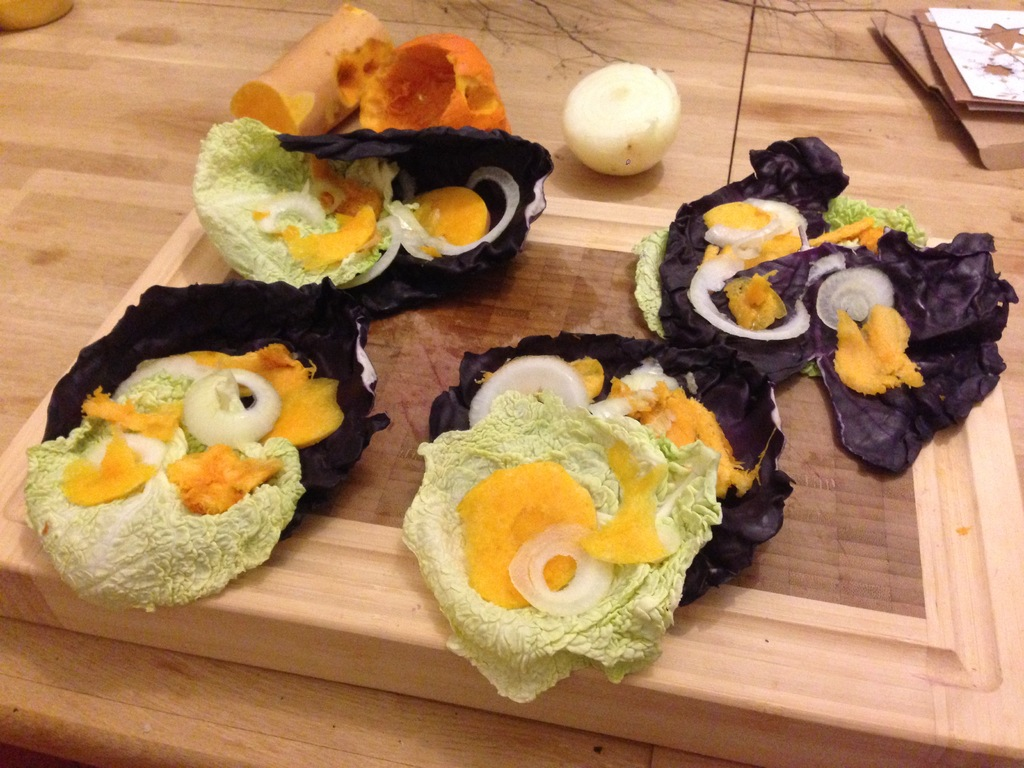sushi: (394, 365, 730, 692)
